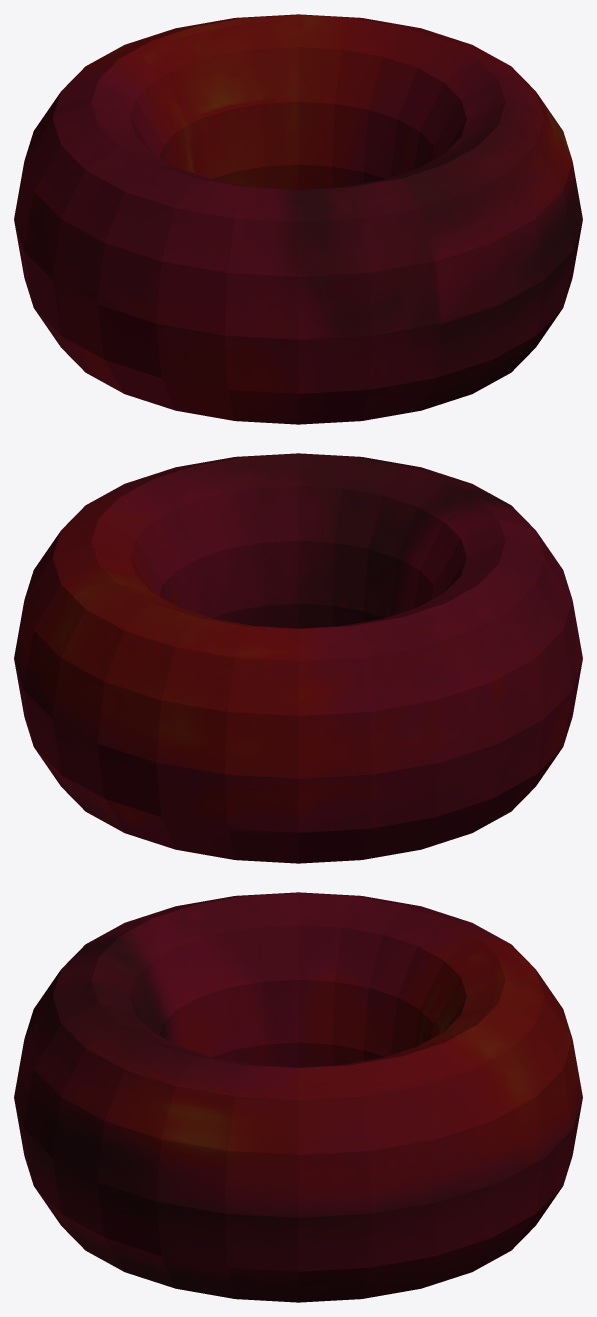
File: FlasherT7.fbx
3 renders of one model, top to bottom at view 1: azimuth 30°, elevation 25°; view 2: azimuth 150°, elevation 25°; view 3: azimuth 270°, elevation 25°, orthographic.
Parts seen in each view (by area): view 1: FlasherT7; view 2: FlasherT7; view 3: FlasherT7.
Part boxes in pixels (x1=…): FlasherT7: x1=14, y1=14, x2=582, y2=424; FlasherT7: x1=14, y1=453, x2=582, y2=863; FlasherT7: x1=14, y1=892, x2=582, y2=1302.
Bounding box in the file's own units: 1.19 × 0.5397 × 1.19.
1 material, 1 textured.
